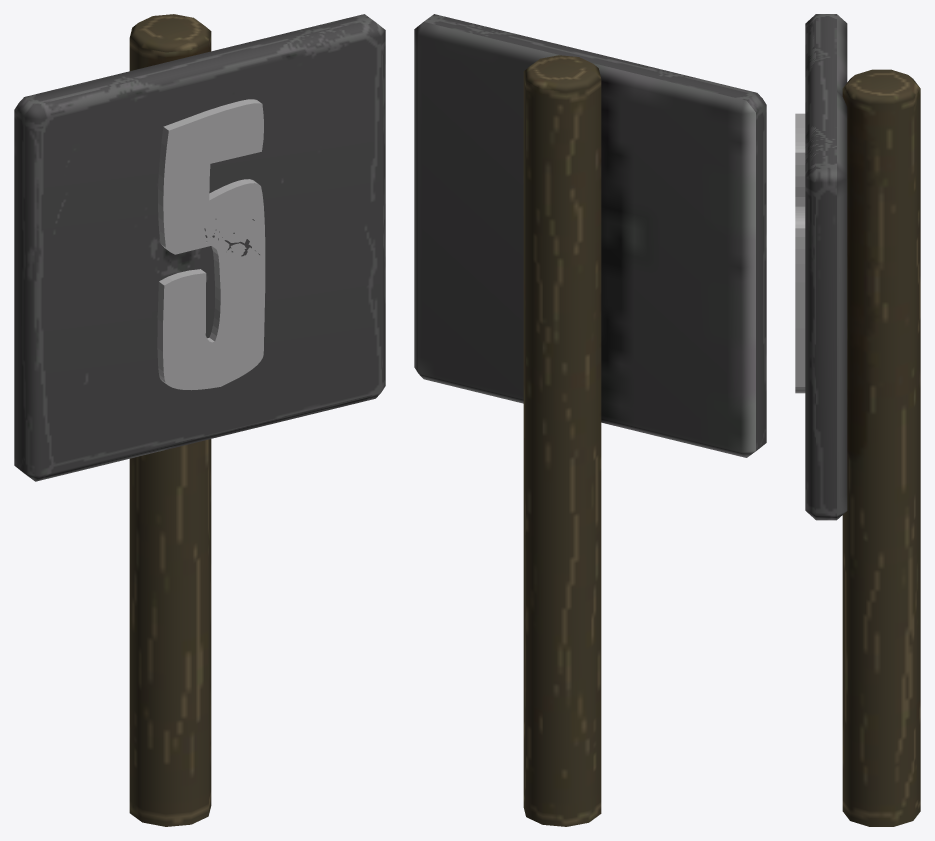
The model's file is sign5.fbx.
3 views of the same model, side by side, from view 1: azimuth 30°, elevation 25°; view 2: azimuth 150°, elevation 25°; view 3: azimuth 270°, elevation 25° (orthographic). The views are drawn at different scales.
Visible parts, largest first — view 1: sign5; view 2: sign5; view 3: sign5.
Boxes of the visible parts, x1,y1,x2,y2 form: sign5: (14, 14, 385, 826); sign5: (414, 14, 766, 826); sign5: (795, 14, 920, 826).
Size of the model in its own units: 1 by 2.07 by 0.3235.
Materials: 1 (1 with a texture image).
